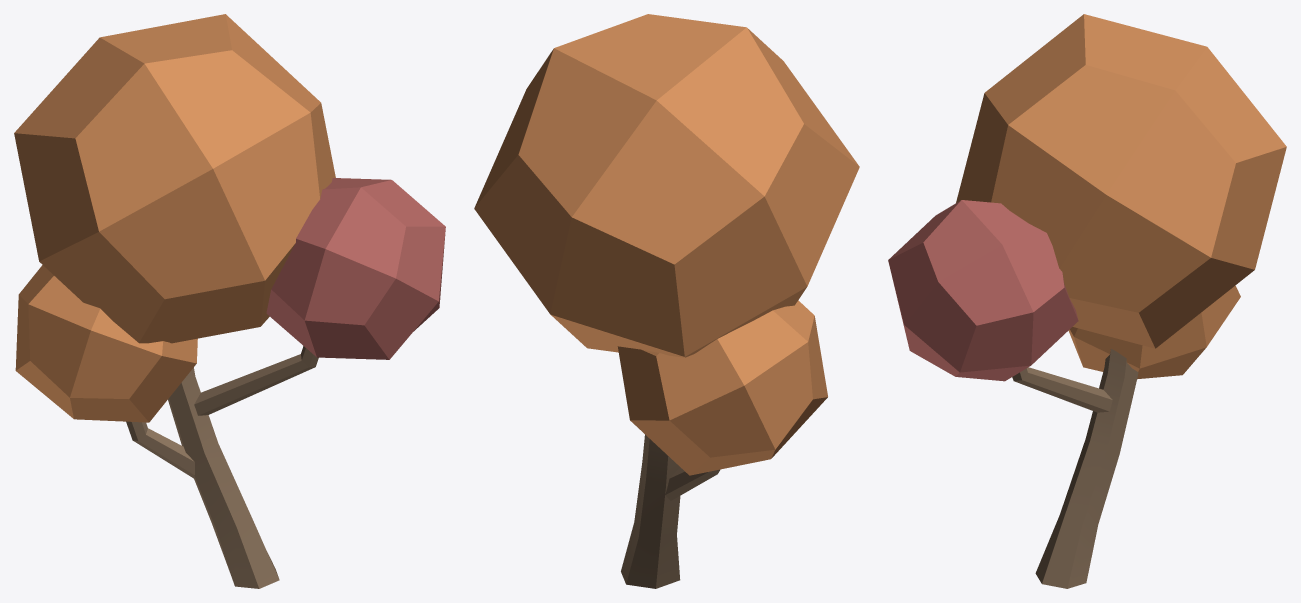
Rendered from tree2.gltf.
3 views of the same model, side by side, from view 1: azimuth 30°, elevation 25°; view 2: azimuth 150°, elevation 25°; view 3: azimuth 270°, elevation 25° (orthographic). The views are drawn at different scales.
Visible parts, largest first — view 1: tree2; view 2: tree2; view 3: tree2.
Part boxes in pixels (bbox=[...]): tree2: bbox=[14, 14, 445, 588]; tree2: bbox=[474, 14, 859, 588]; tree2: bbox=[888, 14, 1286, 588].
Size of the model in its own units: 7.12 by 11.08 by 7.73.
